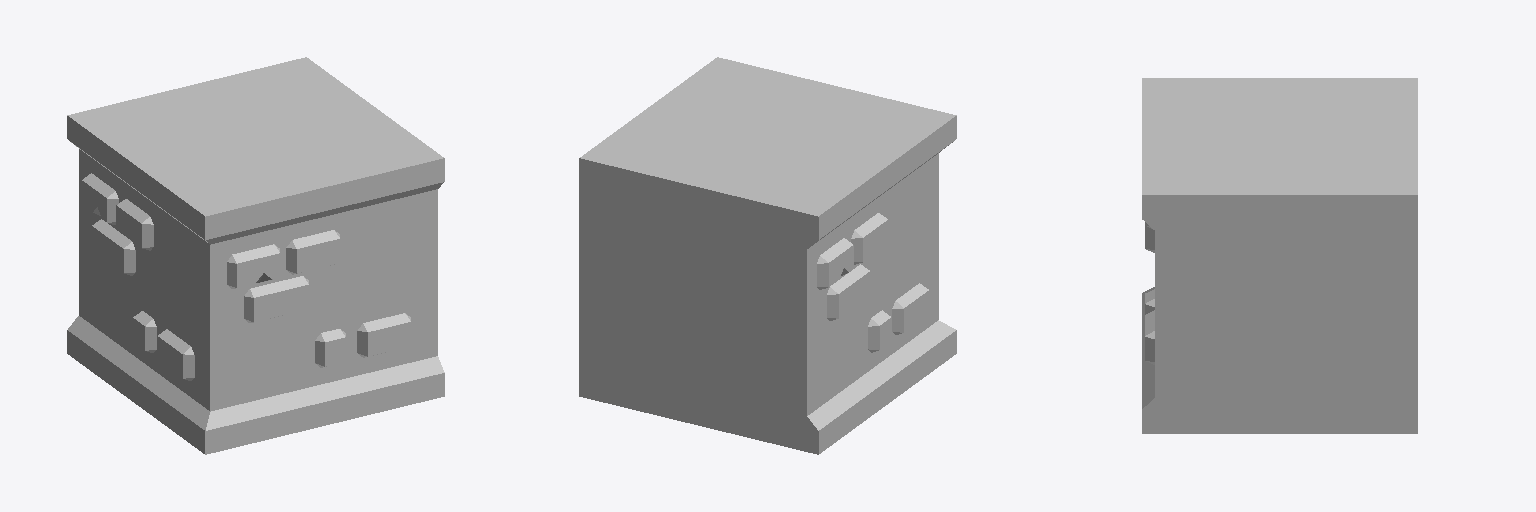
The model's file is floor_foundation_corner.obj.
The picture shows the model from 3 angles: view 1: azimuth 30°, elevation 25°; view 2: azimuth 150°, elevation 25°; view 3: azimuth 270°, elevation 25°; orthographic projection.
Visible parts, largest first — view 1: floor_foundation_corner_Cube.469; view 2: floor_foundation_corner_Cube.469; view 3: floor_foundation_corner_Cube.469.
Part boxes in pixels (bbox=[...]): floor_foundation_corner_Cube.469: bbox=[67, 57, 444, 454]; floor_foundation_corner_Cube.469: bbox=[579, 57, 956, 454]; floor_foundation_corner_Cube.469: bbox=[1142, 78, 1417, 433].
Size of the model in its own units: 2.1 by 2 by 2.1.